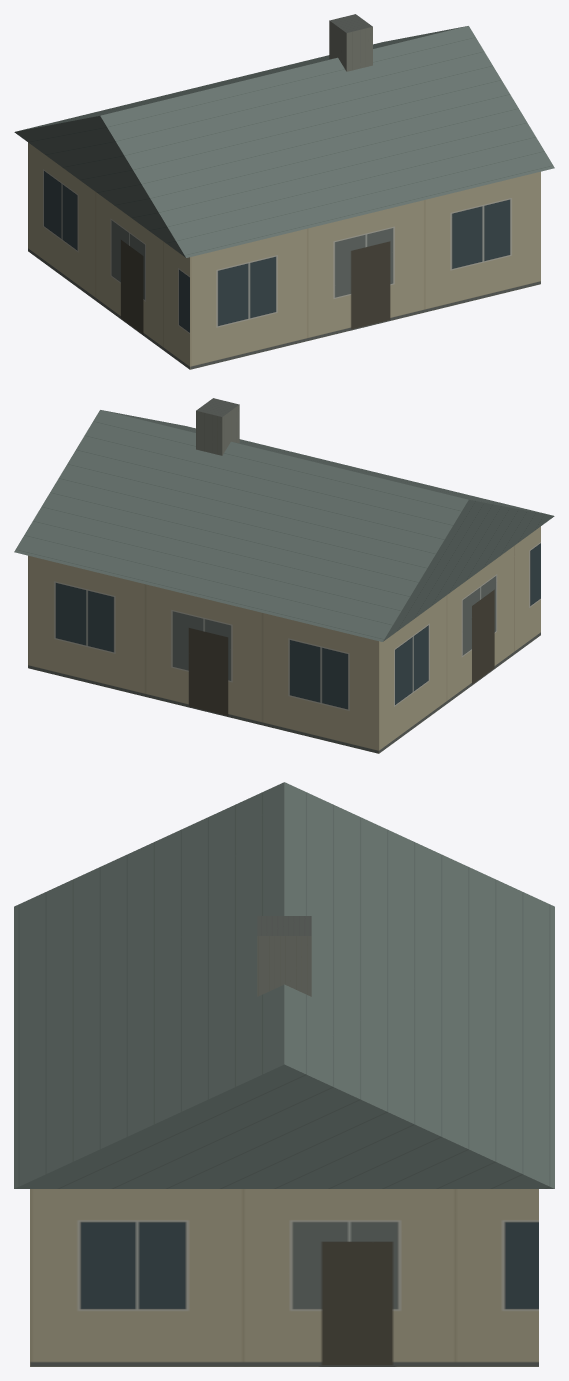
Rendered from kyiv_private_01.obj.
3 renders of one model, top to bottom at view 1: azimuth 30°, elevation 25°; view 2: azimuth 150°, elevation 25°; view 3: azimuth 270°, elevation 25°, orthographic. The views are drawn at different scales.
Parts seen in each view (by area): view 1: kyiv_private_01; view 2: kyiv_private_01; view 3: kyiv_private_01.
Part boxes in pixels (x1,y1,x2,y2): kyiv_private_01: (14,14,554,369); kyiv_private_01: (14,398,554,753); kyiv_private_01: (14,782,554,1366).
Size of the model in its own units: 10.5 by 6.2 by 8.5.
1 material, 1 textured.
